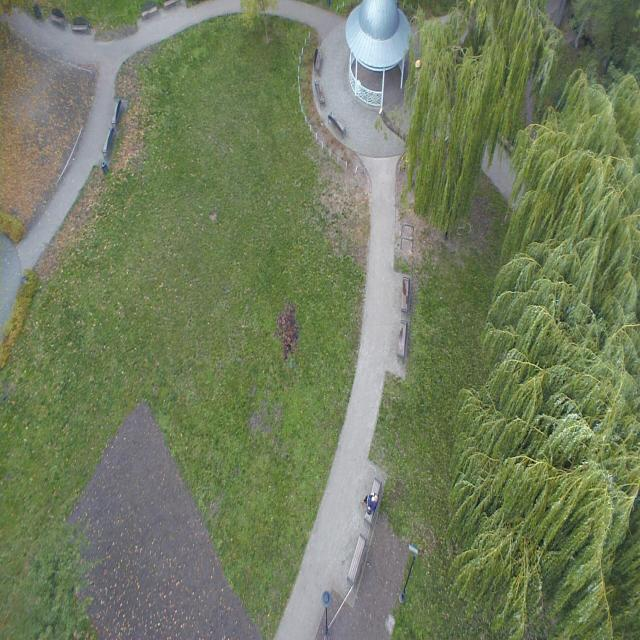p3rson: (360, 492, 379, 511)
